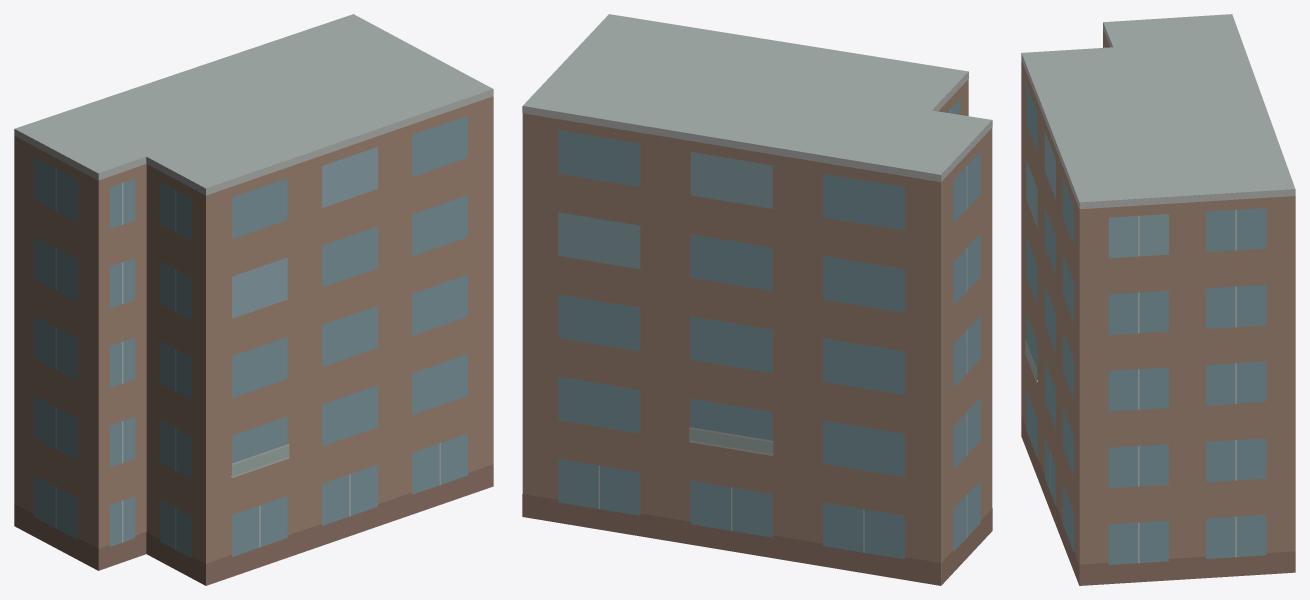
The model's file is survey-upis-32708626.glb.
The picture shows the model from 3 angles, left to right: view 1: azimuth 30°, elevation 25°; view 2: azimuth 150°, elevation 25°; view 3: azimuth 270°, elevation 25°; orthographic projection. The views are drawn at different scales.
Parts seen in each view (by area): view 1: survey-upis-32708626.tmp; view 2: survey-upis-32708626.tmp; view 3: survey-upis-32708626.tmp.
Part boxes in pixels (x1,y1,x2,y2): survey-upis-32708626.tmp: (14, 14, 493, 585); survey-upis-32708626.tmp: (522, 14, 992, 585); survey-upis-32708626.tmp: (1021, 14, 1295, 585).
Size of the model in its own units: 14.45 by 13.7 by 8.89.
